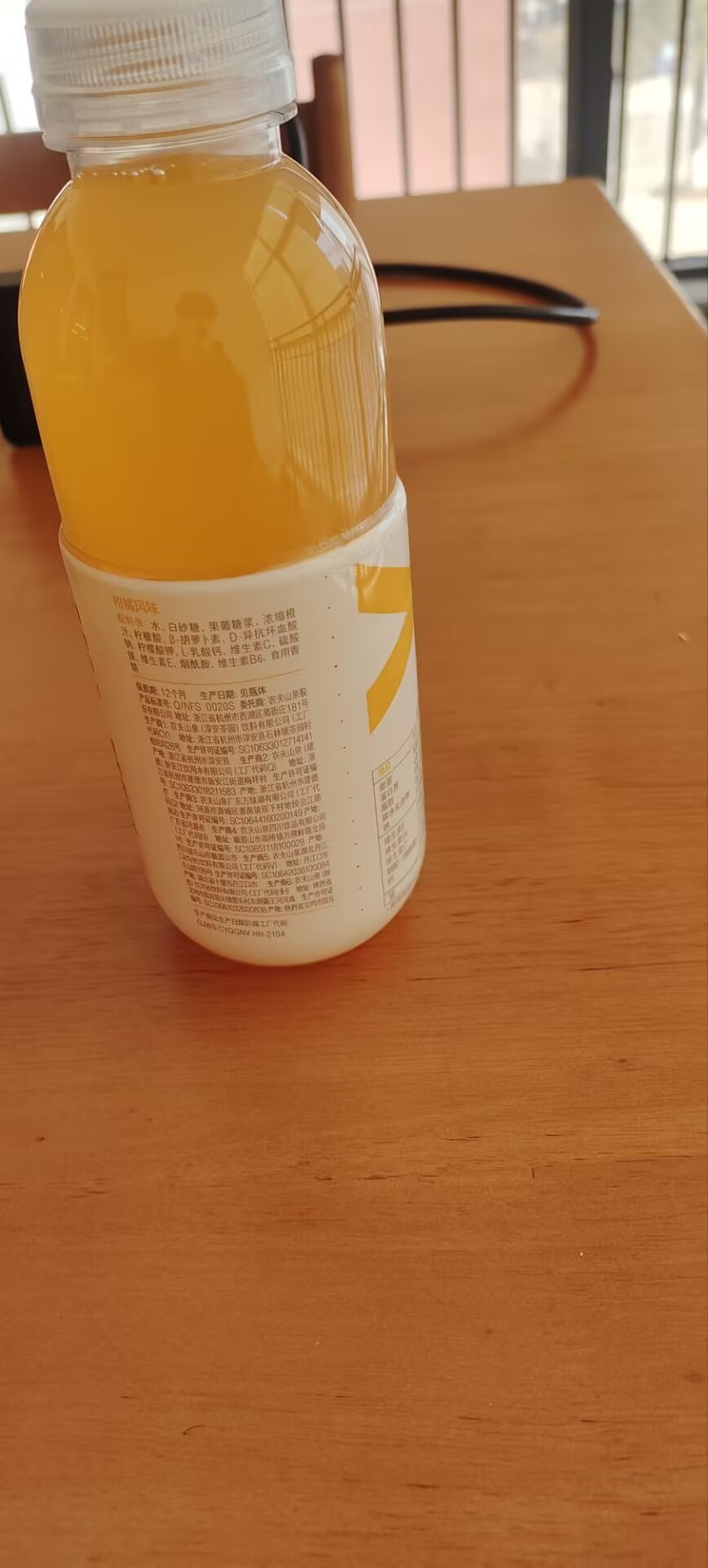redbull: (15, 18, 452, 972)
